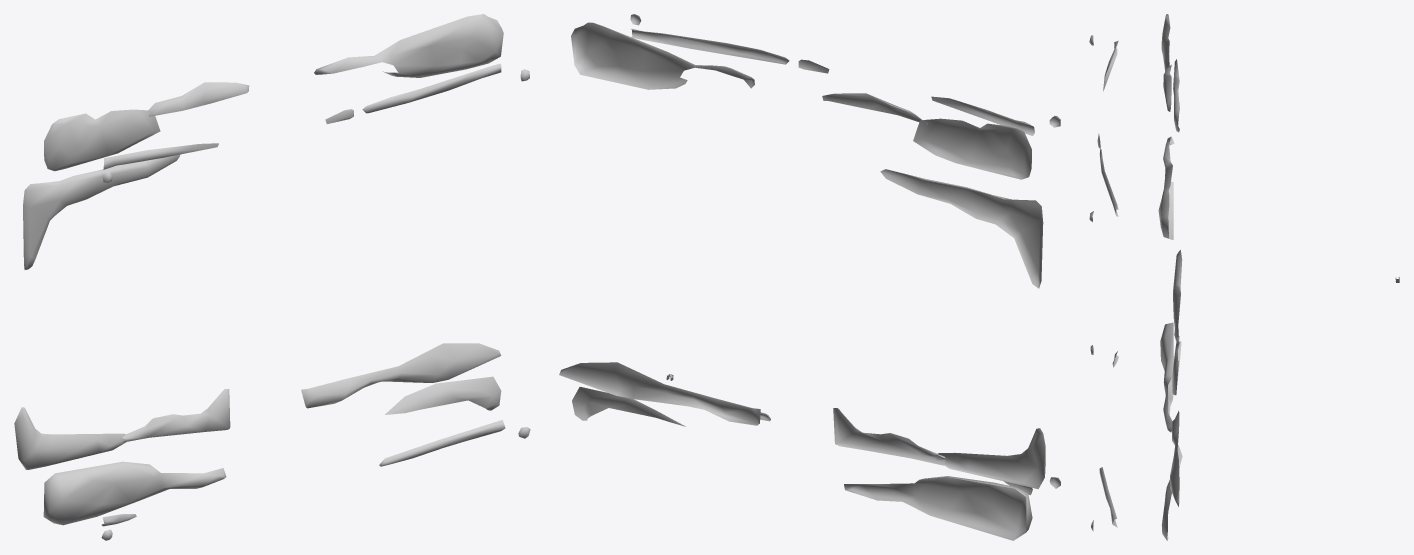
The model's file is pref_sm_city_bridge01_snow_lv3.fbx.
3 views of the same model, side by side, from view 1: azimuth 30°, elevation 25°; view 2: azimuth 150°, elevation 25°; view 3: azimuth 270°, elevation 25° (orthographic). The views are drawn at different scales.
Visible parts, largest first — view 1: sm_city_bridge01b_snow_lv3; view 2: sm_city_bridge01b_snow_lv3; view 3: sm_city_bridge01b_snow_lv3.
Boxes of the visible parts, x1,y1,x2,y2 form: sm_city_bridge01b_snow_lv3: (14, 14, 530, 540); sm_city_bridge01b_snow_lv3: (559, 14, 1060, 540); sm_city_bridge01b_snow_lv3: (1089, 14, 1182, 540).
Size of the model in its own units: 1116 by 899 by 714.
